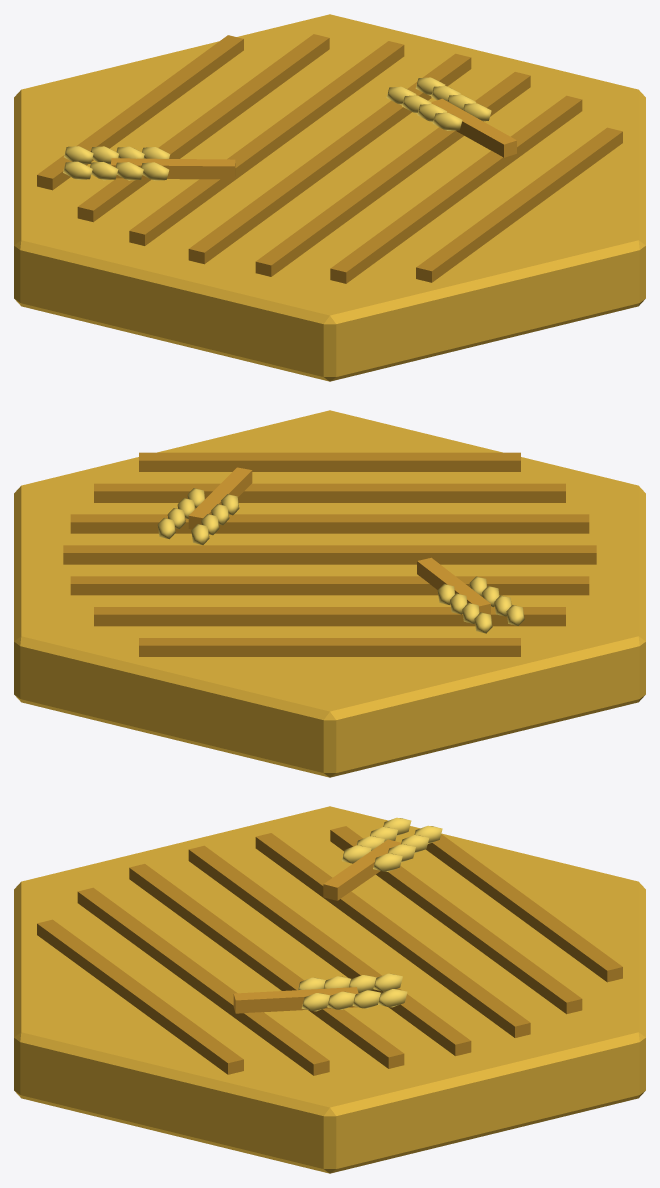
The model's file is wheat.glb.
3 views of the same model, one above another, from view 1: azimuth 30°, elevation 25°; view 2: azimuth 150°, elevation 25°; view 3: azimuth 270°, elevation 25° (orthographic).
Parts seen in each view (by area): view 1: Hex_wheat, Cube.004, Cube.003, Cube.002, Cube.001, Cube.005, Cube, Cube.006, Cube.007, Cube.008; view 2: Hex_wheat, Cube.003, Cube.004, Cube.002, Cube.001, Cube.005, Cube, Cube.006, Cube.007, Cube.008; view 3: Hex_wheat, Cube.004, Cube.003, Cube.002, Cube.001, Cube.005, Cube, Cube.006, Cube.008, Cube.007.
Boxes of the visible parts, x1,y1,x2,y2 form: Hex_wheat: (14, 14, 645, 381); Cube.004: (129, 41, 404, 245); Cube.003: (188, 53, 471, 264); Cube.002: (255, 72, 530, 276); Cube.001: (330, 95, 582, 283); Cube.005: (77, 34, 329, 222); Cube: (416, 127, 622, 282); Cube.006: (37, 35, 243, 190); Cube.007: (111, 158, 235, 179); Cube.008: (431, 98, 516, 157); Hex_wheat: (14, 410, 645, 777); Cube.003: (63, 545, 596, 564); Cube.004: (70, 576, 589, 595); Cube.002: (70, 514, 589, 533); Cube.001: (94, 483, 565, 502); Cube.005: (94, 607, 565, 626); Cube: (139, 452, 520, 471); Cube.006: (139, 638, 520, 656); Cube.007: (417, 557, 490, 614); Cube.008: (188, 467, 252, 529); Hex_wheat: (14, 806, 645, 1173); Cube.004: (255, 833, 530, 1037); Cube.003: (188, 845, 471, 1056); Cube.002: (129, 864, 404, 1068); Cube.001: (77, 887, 329, 1075); Cube.005: (330, 826, 582, 1014); Cube: (37, 919, 243, 1074); Cube.006: (426, 834, 622, 982); Cube.008: (233, 987, 358, 1013); Cube.007: (323, 839, 401, 900).
Bounding box in the file's own units: 1.98 × 0.298 × 1.73.
